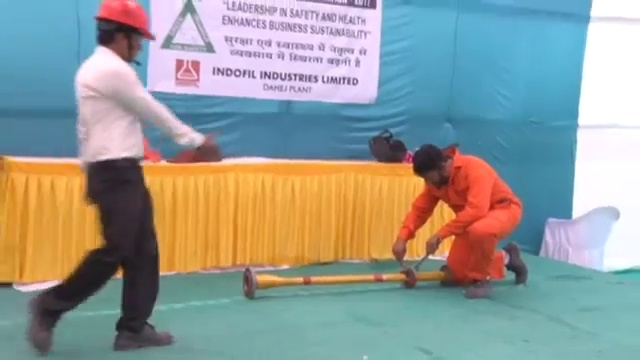helmet: (92, 1, 157, 43)
helmet_off: (412, 143, 450, 184)
helmet_on: (90, 1, 157, 66)
person: (23, 1, 218, 351), (391, 140, 530, 298)
